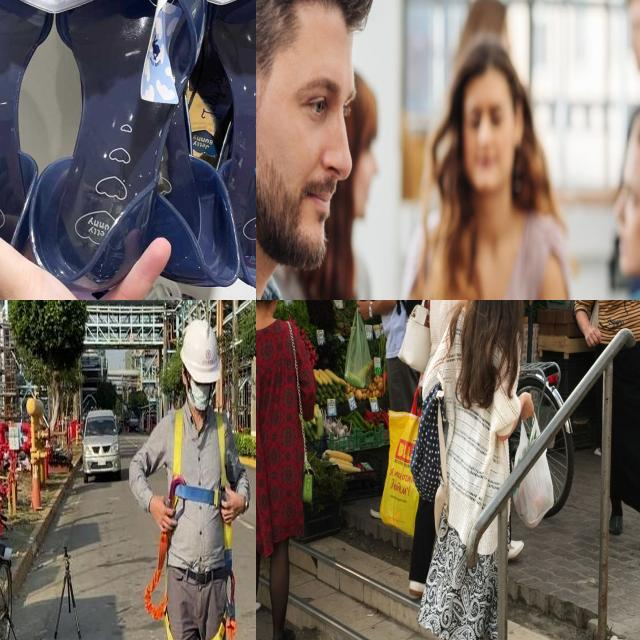Ear-protection: (256, 0, 369, 278)
Harness: (170, 408, 228, 508), (144, 533, 176, 640), (208, 573, 237, 640)
No_Glasses: (272, 47, 366, 147)
Sandals: (0, 0, 214, 300)
